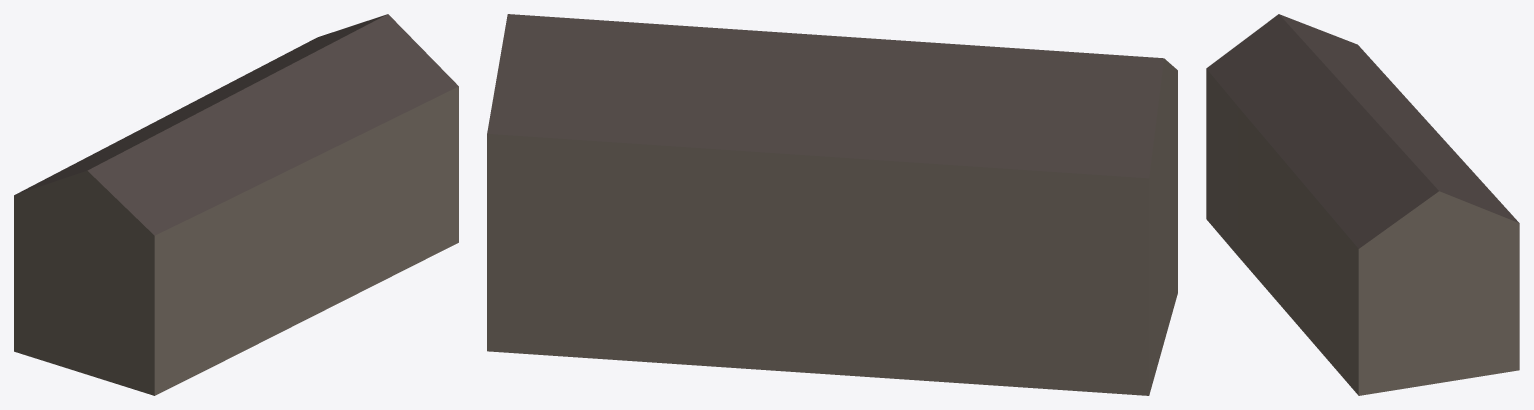
3 renders of one model, left to right at view 1: azimuth 30°, elevation 25°; view 2: azimuth 150°, elevation 25°; view 3: azimuth 270°, elevation 25°, orthographic. The views are drawn at different scales.
Parts seen in each view (by area): view 1: HP-w1197004634; view 2: HP-w1197004634; view 3: HP-w1197004634.
Boxes of the visible parts, <box> form: HP-w1197004634: <box>14,14,458,395</box>; HP-w1197004634: <box>487,14,1177,395</box>; HP-w1197004634: <box>1206,14,1519,395</box>.
Bounding box in the file's own units: 17.89 × 7.84 × 11.6.
